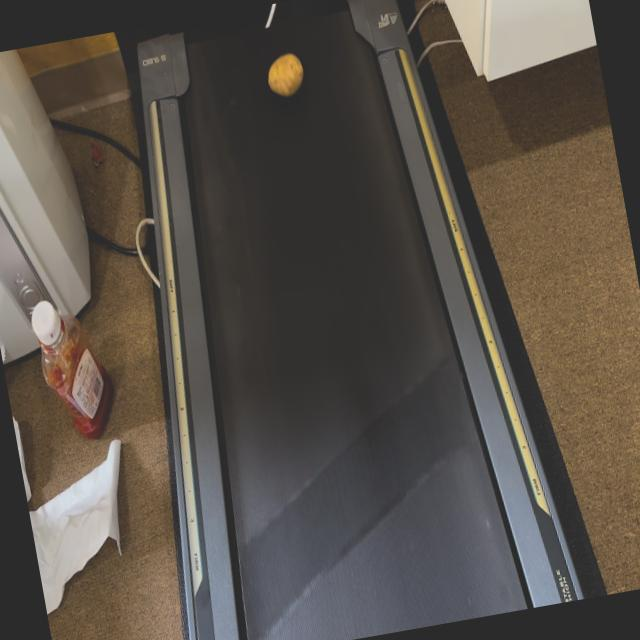Trash: (262, 50, 308, 99)
